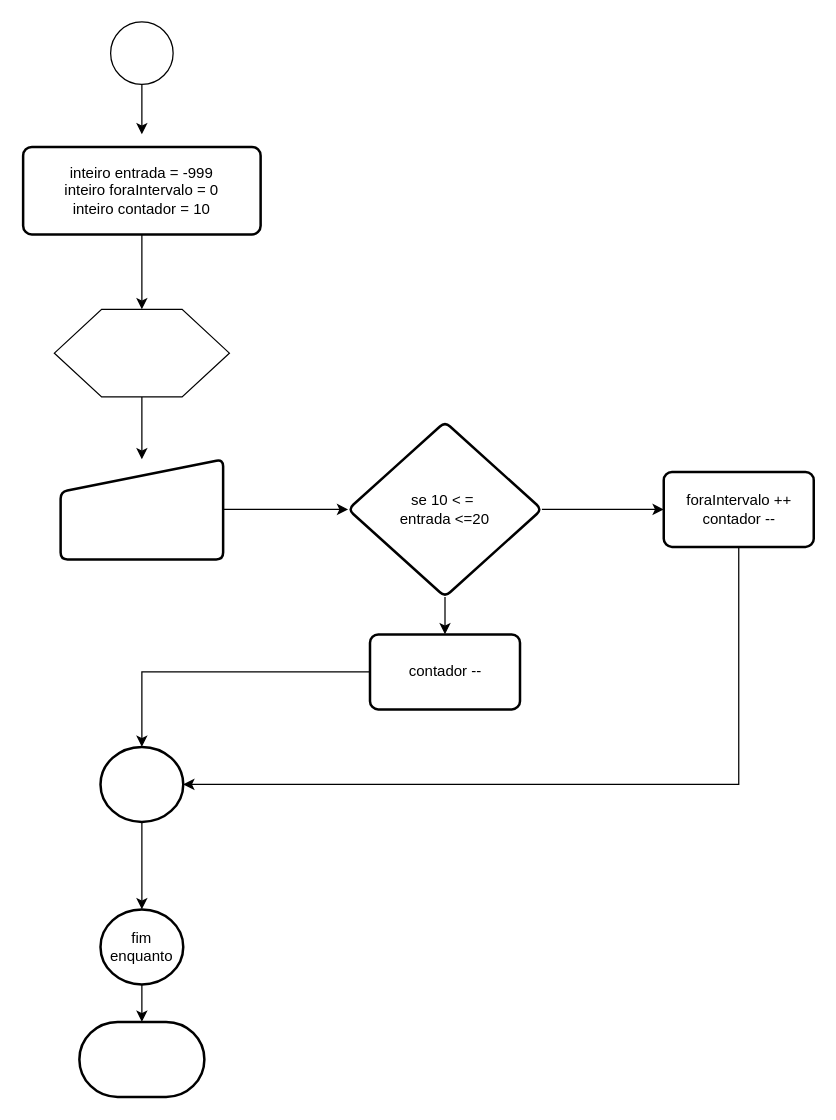
Image size: 836x1120. Some labels were removed from this diagram. The centre of each missing label's shape, as x and y in pixels:
"enquanto contador > 0" goes at (x=141, y=352).
"entrada" goes at (x=141, y=509).
"fim se" goes at (x=141, y=783).
